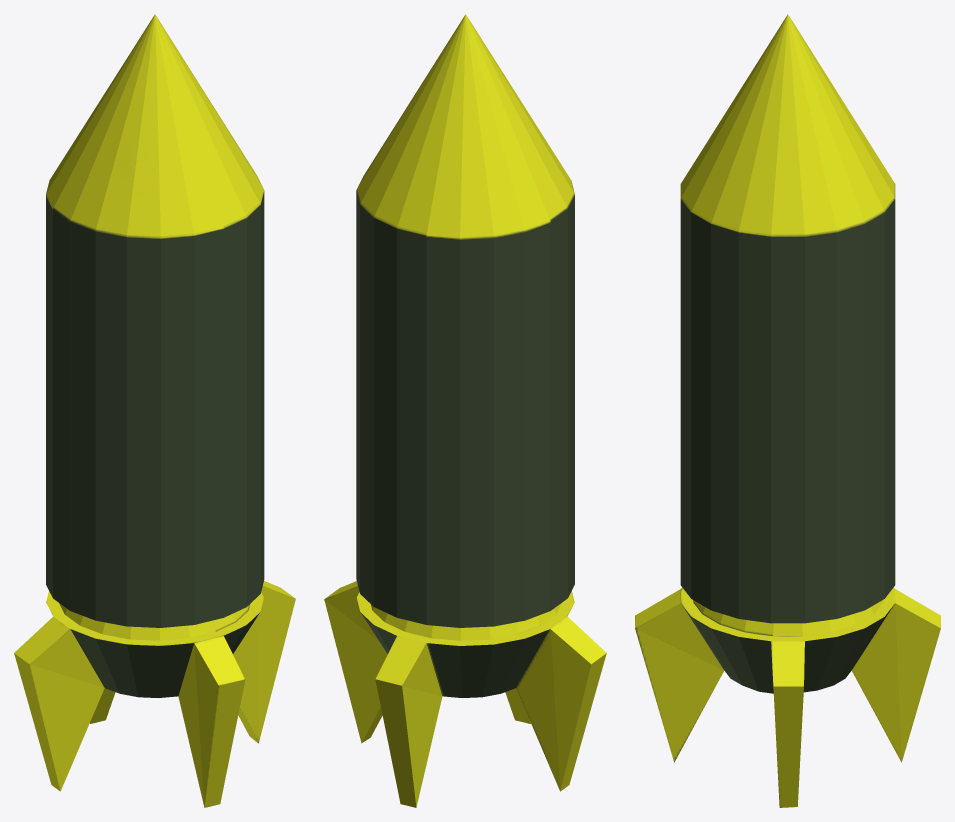
The model's file is Missil2.fbx.
The picture shows the model from 3 angles, left to right: view 1: azimuth 30°, elevation 25°; view 2: azimuth 150°, elevation 25°; view 3: azimuth 270°, elevation 25°; orthographic projection.
Visible parts, largest first — view 1: pCone2; view 2: pCone2; view 3: pCone2.
Part boxes in pixels (x1=…): pCone2: x1=14, y1=14, x2=295, y2=807; pCone2: x1=324, y1=14, x2=606, y2=807; pCone2: x1=635, y1=14, x2=940, y2=807.
Size of the model in its own units: 0.8073 by 2.17 by 0.807.
